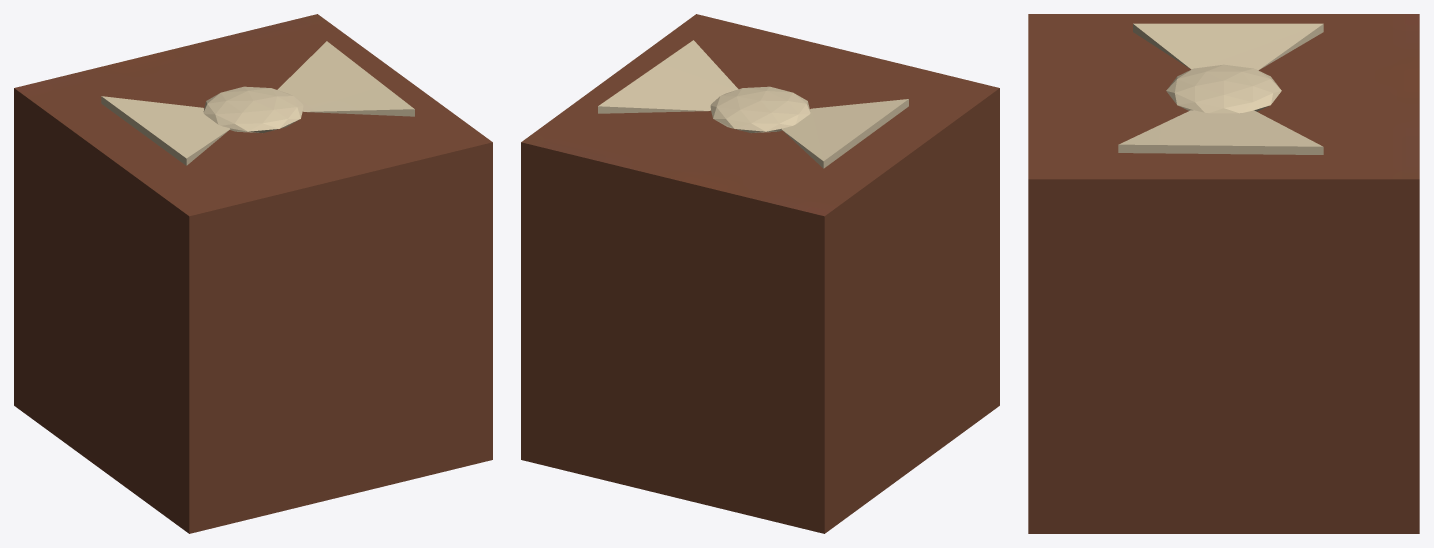
File: genesis.dae
The picture shows the model from 3 angles, left to right: view 1: azimuth 30°, elevation 25°; view 2: azimuth 150°, elevation 25°; view 3: azimuth 270°, elevation 25°; orthographic projection. The views are drawn at different scales.
Visible parts, largest first — view 1: Cube; view 2: Cube; view 3: Cube.
Boxes of the visible parts, x1,y1,x2,y2 form: Cube: (14,14,492,533); Cube: (521,14,999,533); Cube: (1028,14,1419,533).
Bounding box in the file's own units: 0.1905 × 0.1905 × 0.1991.
Materials: 1 (1 with a texture image).
